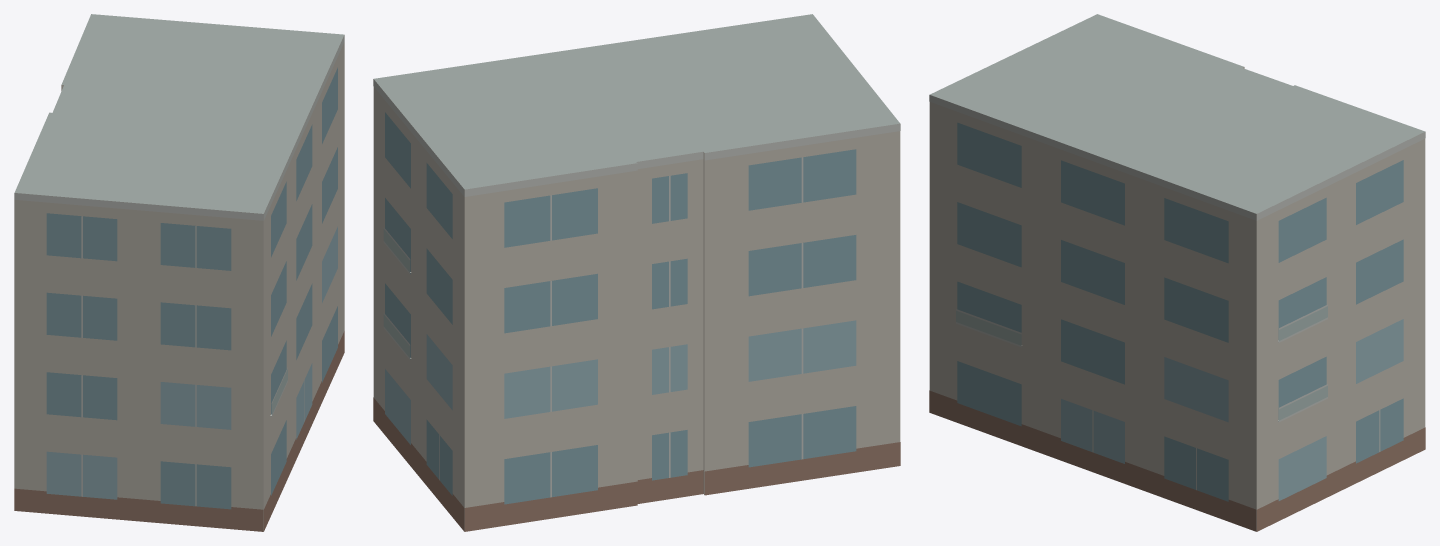
Rendered from survey-upis-32825687.glb.
3 views of the same model, side by side, from view 1: azimuth 30°, elevation 25°; view 2: azimuth 150°, elevation 25°; view 3: azimuth 270°, elevation 25° (orthographic). The views are drawn at different scales.
Visible parts, largest first — view 1: survey-upis-32825687.tmp; view 2: survey-upis-32825687.tmp; view 3: survey-upis-32825687.tmp.
Part boxes in pixels (<box>): survey-upis-32825687.tmp: <box>14,14,344,531</box>; survey-upis-32825687.tmp: <box>373,14,900,531</box>; survey-upis-32825687.tmp: <box>929,14,1425,531</box>.
Size of the model in its own units: 15.13 by 11.21 by 15.86.
